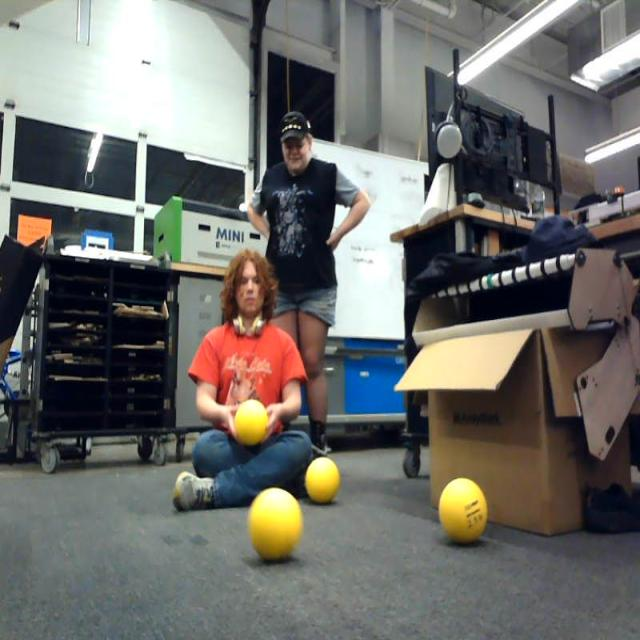Fuel: (249, 487, 302, 562), (438, 478, 487, 543), (306, 457, 340, 505), (234, 400, 269, 445)
